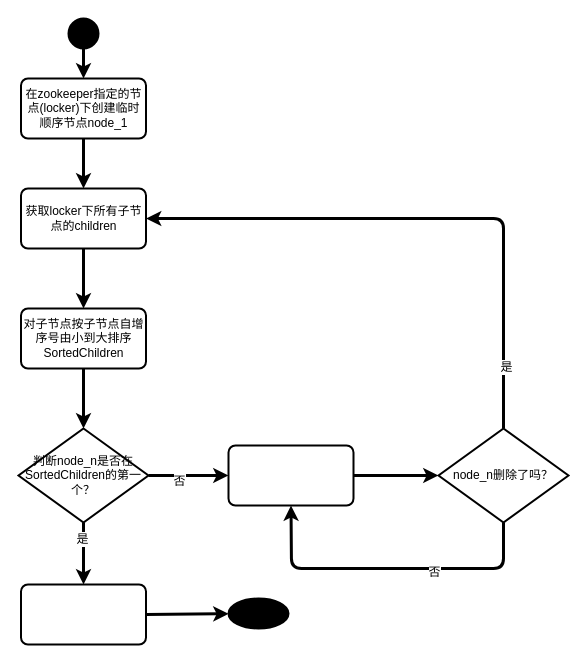
The diagram is 586 pixels wide and 662 high, and some of its shapes have lost their labels. Here are the shapes that lost their labels. From the top down, the centre of each, then its label:
At point 290,475: "监听比node_n次小的 那个节点node_n-1的删除事件".
At point 83,614: "获得锁".
